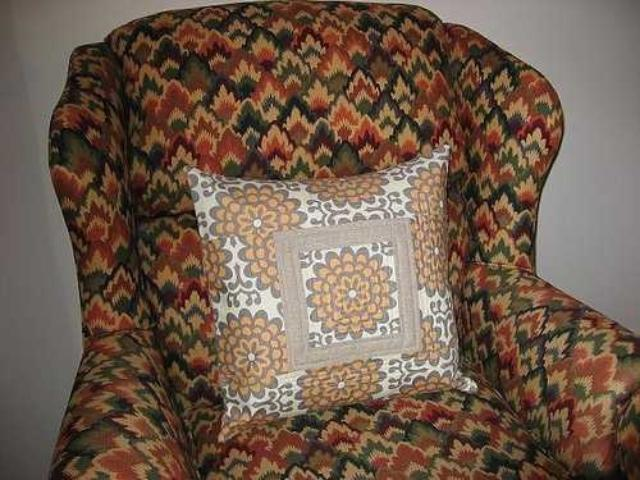pillow: (183, 142, 474, 430)
